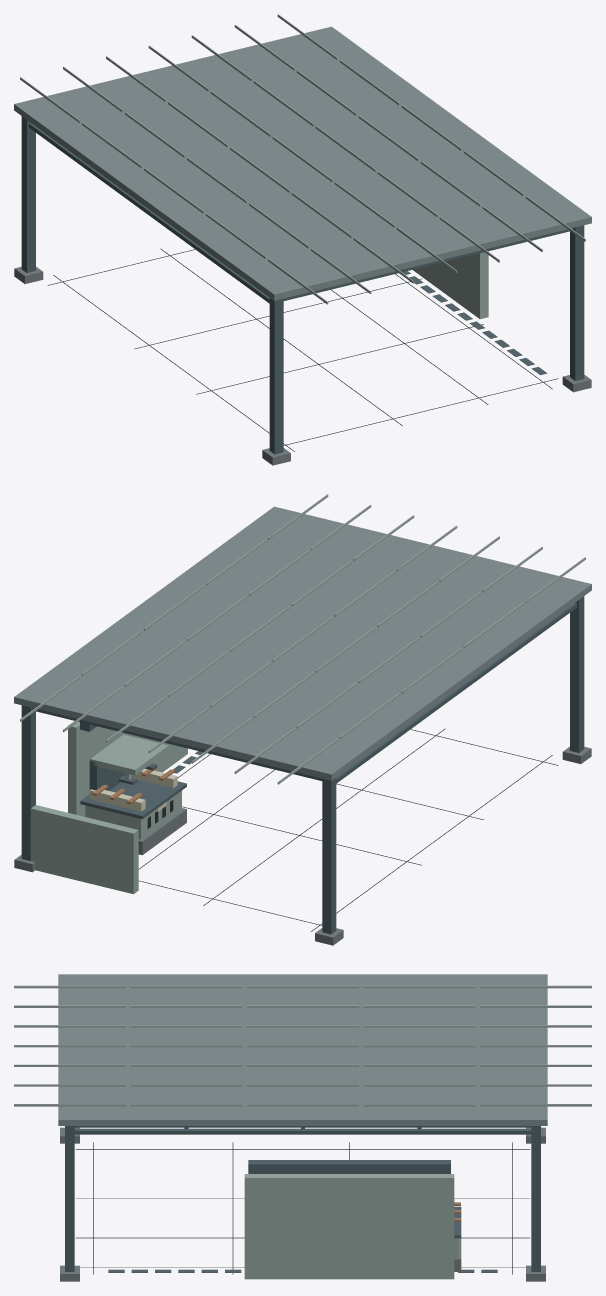
The model's file is engineering-workshop.glb.
The picture shows the model from 3 angles, top to bottom: view 1: azimuth 30°, elevation 25°; view 2: azimuth 150°, elevation 25°; view 3: azimuth 270°, elevation 25°; orthographic projection. The views are drawn at different scales.
Visible parts, largest first — view 1: engineering-workshop; view 2: engineering-workshop; view 3: engineering-workshop.
Boxes of the visible parts, x1=… form: engineering-workshop: x1=14, y1=14, x2=591, y2=465; engineering-workshop: x1=14, y1=494, x2=591, y2=945; engineering-workshop: x1=14, y1=974, x2=591, y2=1281.
Size of the model in its own units: 14.85 by 7.74 by 24.8.
